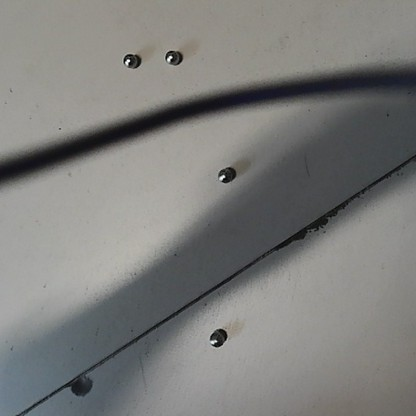ironball: (209, 331, 223, 346), (122, 53, 136, 67), (218, 168, 232, 182), (165, 50, 177, 65)
